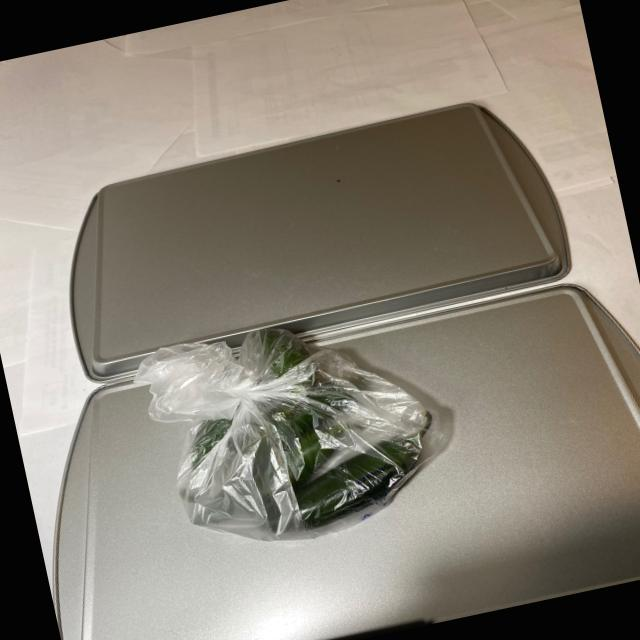chilli: (156, 296, 450, 546)
